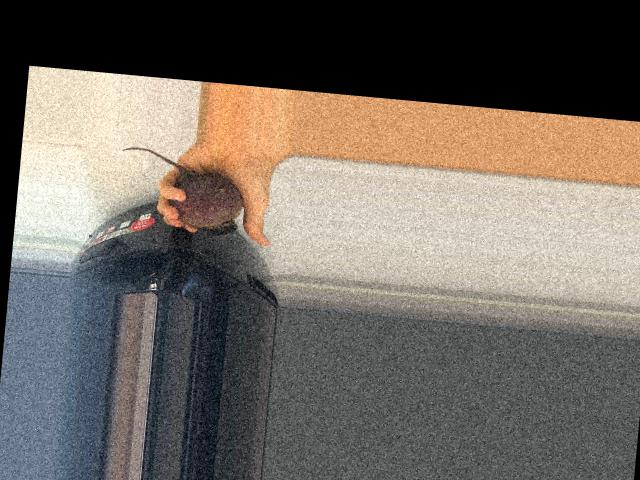beet: (115, 145, 246, 238)
